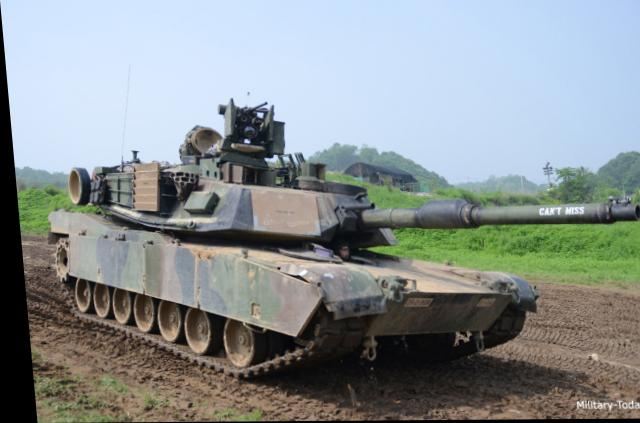tank: (30, 99, 544, 374)
